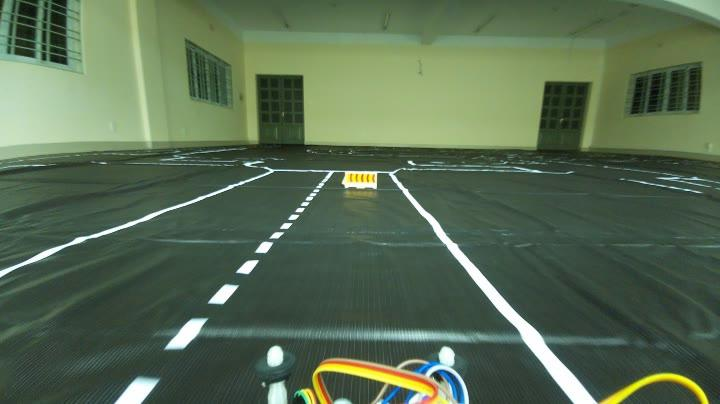roadblock: (338, 164, 382, 196)
